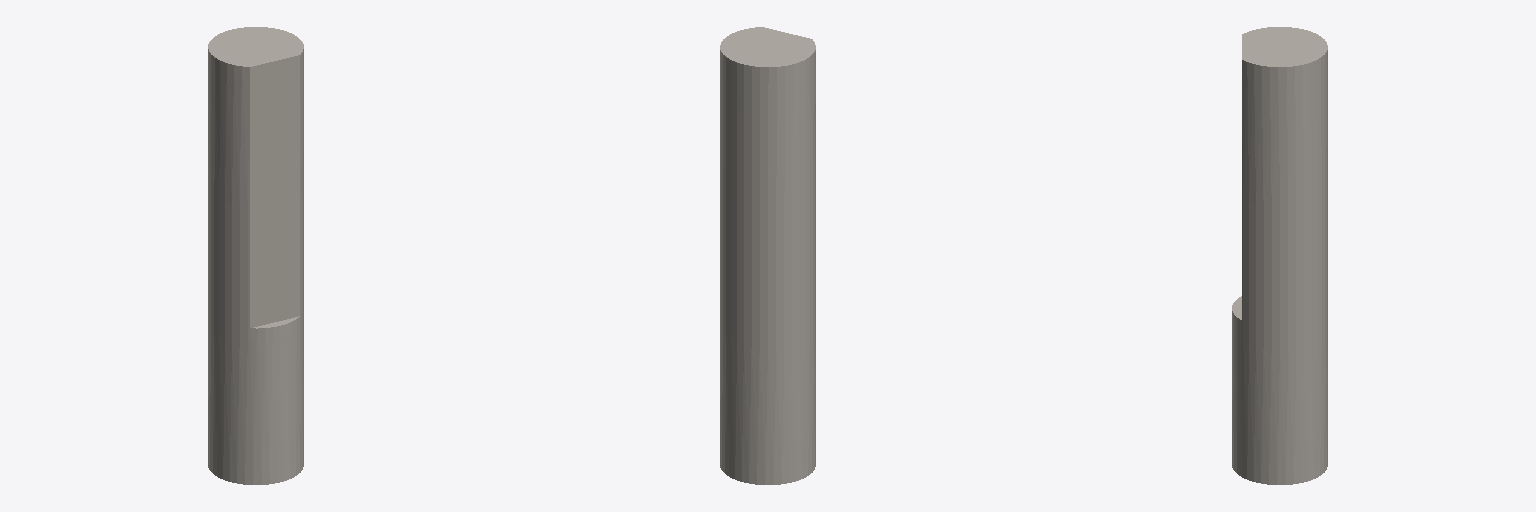
The model's file is motorShaft.obj.
The picture shows the model from 3 angles: view 1: azimuth 30°, elevation 25°; view 2: azimuth 150°, elevation 25°; view 3: azimuth 270°, elevation 25°; orthographic projection.
Visible parts, largest first — view 1: Shaft; view 2: Shaft; view 3: Shaft.
Boxes of the visible parts, x1=… form: Shaft: x1=208, y1=27, x2=303, y2=484; Shaft: x1=720, y1=27, x2=815, y2=484; Shaft: x1=1232, y1=27, x2=1327, y2=484.
Size of the model in its own units: 0.5 by 2.4 by 0.5.